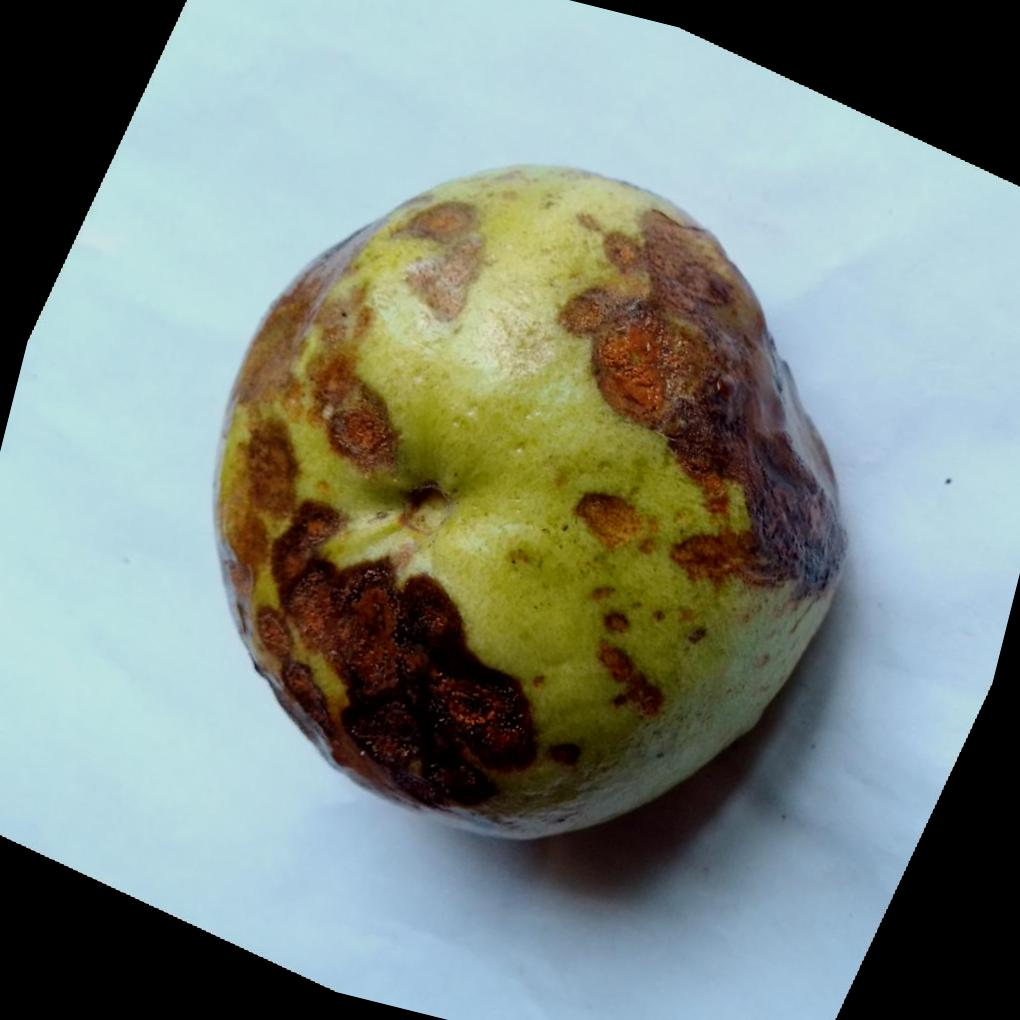FreshOrange: (213, 160, 848, 837)
